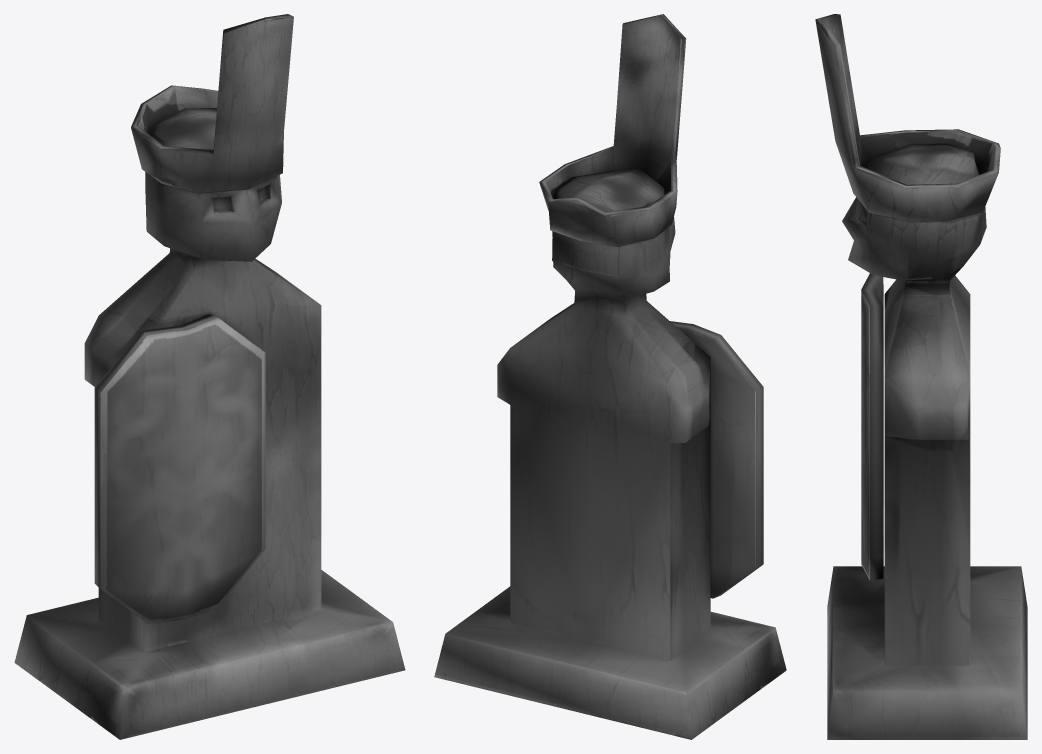
The model's file is patung_sapundu_1.glb.
3 views of the same model, side by side, from view 1: azimuth 30°, elevation 25°; view 2: azimuth 150°, elevation 25°; view 3: azimuth 270°, elevation 25° (orthographic). The views are drawn at different scales.
Parts seen in each view (by area): view 1: patung_sapundu_1; view 2: patung_sapundu_1; view 3: patung_sapundu_1.
Boxes of the visible parts, x1,y1,x2,y2 form: patung_sapundu_1: [14, 14, 405, 739]; patung_sapundu_1: [434, 14, 786, 739]; patung_sapundu_1: [815, 14, 1027, 739].
Size of the model in its own units: 2.1 by 4.84 by 1.42.
Materials: 1 (1 with a texture image).
